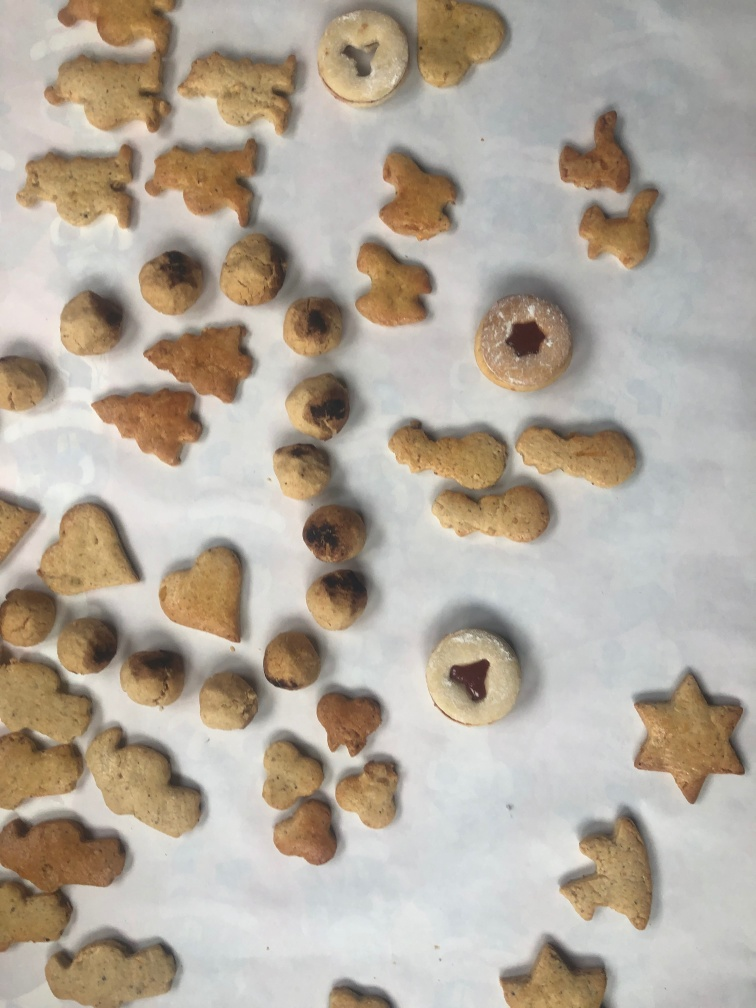christmas shortbread with jam: (471, 286, 582, 395), (312, 1, 416, 110), (423, 624, 529, 729)
christmas tree: (90, 381, 215, 472), (141, 316, 260, 408)
flake: (308, 679, 388, 760), (270, 789, 344, 873), (331, 749, 405, 831), (257, 728, 328, 811)
heart: (38, 493, 145, 602), (156, 533, 253, 646), (410, 1, 513, 94)
lamb: (553, 799, 673, 937), (373, 137, 475, 244), (353, 228, 439, 334)
santa claus: (82, 721, 212, 839), (38, 46, 182, 138), (177, 41, 309, 139), (143, 133, 268, 230), (1, 806, 131, 895), (13, 143, 149, 228), (44, 923, 181, 1001), (1, 657, 103, 755), (59, 1, 182, 64), (1, 729, 87, 811)
snowball: (218, 227, 286, 310), (280, 368, 358, 440), (54, 288, 129, 361), (138, 246, 215, 315), (299, 495, 376, 563), (1, 339, 59, 424), (196, 665, 266, 734), (304, 565, 376, 632), (57, 610, 123, 683), (280, 294, 350, 362), (120, 640, 188, 707), (258, 625, 324, 694), (268, 438, 338, 502), (4, 585, 56, 646)
snowman: (509, 408, 643, 494), (380, 413, 516, 489), (429, 472, 560, 545)
squirrel: (580, 186, 662, 273), (558, 104, 633, 190)
star: (630, 665, 748, 807), (495, 932, 617, 1006)
